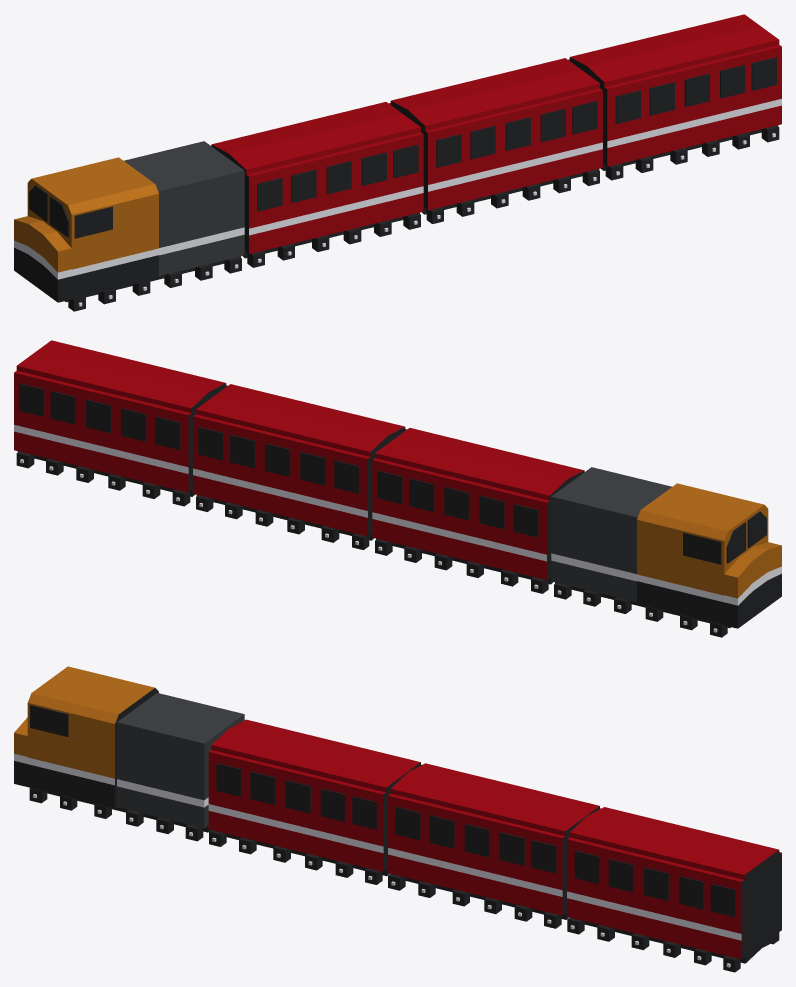
File: Train.glb
3 renders of one model, top to bottom at view 1: azimuth 30°, elevation 25°; view 2: azimuth 150°, elevation 25°; view 3: azimuth 330°, elevation 25°, orthographic.
Parts seen in each view (by area): view 1: Cube.018; view 2: Cube.018; view 3: Cube.018.
Part boxes in pixels (left/top/right/bottom): Cube.018: left=14, top=14, right=781, bottom=311; Cube.018: left=14, top=340, right=781, bottom=637; Cube.018: left=14, top=666, right=781, bottom=972.
Bounding box in the file's own units: 16.61 × 2.28 × 1.84.
1 material, 1 textured.
